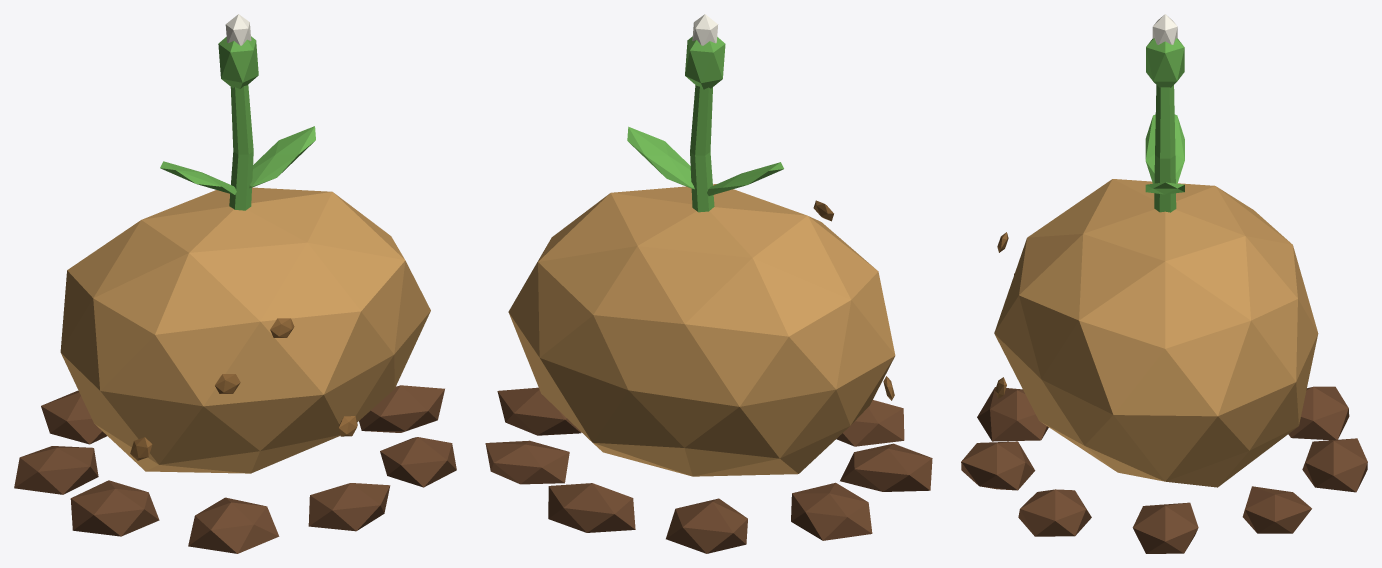
Rendered from potato_bud.glb.
3 views of the same model, side by side, from view 1: azimuth 30°, elevation 25°; view 2: azimuth 150°, elevation 25°; view 3: azimuth 270°, elevation 25° (orthographic).
Parts seen in each view (by area): view 1: potato_body.001, potato_soil_5.001, potato_soil_6.001, potato_soil_4.001, potato_soil_7.001, potato_soil_0.001, potato_soil_8.001, potato_stem, potato_soil_3.001, potato_leaf_1, potato_bud, potato_leaf_-1 (+1 smaller); view 2: potato_body.001, potato_soil_2.001, potato_soil_4.001, potato_soil_5.001, potato_soil_3.001, potato_soil_1.001, potato_soil_0.001, potato_stem, potato_soil_6.001, potato_leaf_1, potato_bud, potato_leaf_-1 (+1 smaller); view 3: potato_body.001, potato_soil_2.001, potato_soil_7.001, potato_soil_0.001, potato_soil_8.001, potato_soil_6.001, potato_soil_1.001, potato_stem, potato_soil_3.001, potato_bud, potato_leaf_-1, potato_bud_tip.
Boxes of the visible parts, box(x1,y1,x2,y2) form: potato_body.001: box(60, 187, 430, 473); potato_soil_5.001: box(70, 480, 159, 536); potato_soil_6.001: box(188, 497, 279, 553); potato_soil_4.001: box(14, 446, 98, 494); potato_soil_7.001: box(308, 483, 390, 531); potato_soil_0.001: box(359, 385, 444, 432); potato_soil_8.001: box(380, 437, 456, 487); potato_stem: box(229, 85, 253, 210); potato_soil_3.001: box(41, 390, 106, 444); potato_leaf_1: box(249, 126, 315, 188); potato_bud: box(218, 36, 258, 88); potato_leaf_-1: box(160, 161, 236, 194); potato_body.001: box(508, 184, 895, 476); potato_soil_2.001: box(548, 483, 635, 532); potato_soil_4.001: box(791, 482, 872, 540); potato_soil_5.001: box(840, 443, 932, 491); potato_soil_3.001: box(666, 498, 747, 553); potato_soil_1.001: box(485, 440, 569, 484); potato_soil_0.001: box(497, 387, 581, 435); potato_stem: box(690, 85, 714, 212); potato_soil_6.001: box(836, 400, 904, 446); potato_leaf_1: box(627, 126, 694, 189); potato_bud: box(685, 36, 725, 89); potato_leaf_-1: box(707, 162, 783, 195); potato_body.001: box(994, 179, 1318, 487); potato_soil_2.001: box(1302, 438, 1367, 492); potato_soil_7.001: box(961, 441, 1035, 490); potato_soil_0.001: box(1132, 502, 1198, 553); potato_soil_8.001: box(1018, 489, 1091, 536); potato_soil_6.001: box(977, 387, 1048, 441); potato_soil_1.001: box(1242, 486, 1311, 533); potato_stem: box(1154, 85, 1176, 212); potato_soil_3.001: box(1288, 386, 1349, 440); potato_bud: box(1146, 38, 1184, 87); potato_leaf_-1: box(1145, 114, 1184, 183); potato_bud_tip: box(1152, 14, 1177, 44).
Bounding box in the file's own units: 0.8172 × 0.8935 × 0.7136.
